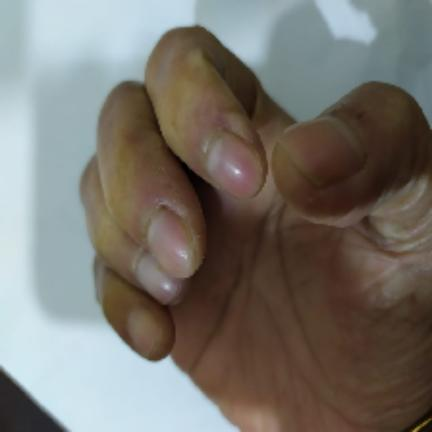Nail: (281, 117, 366, 187), (206, 132, 265, 197), (148, 209, 200, 278), (138, 253, 183, 303), (127, 307, 162, 352)
